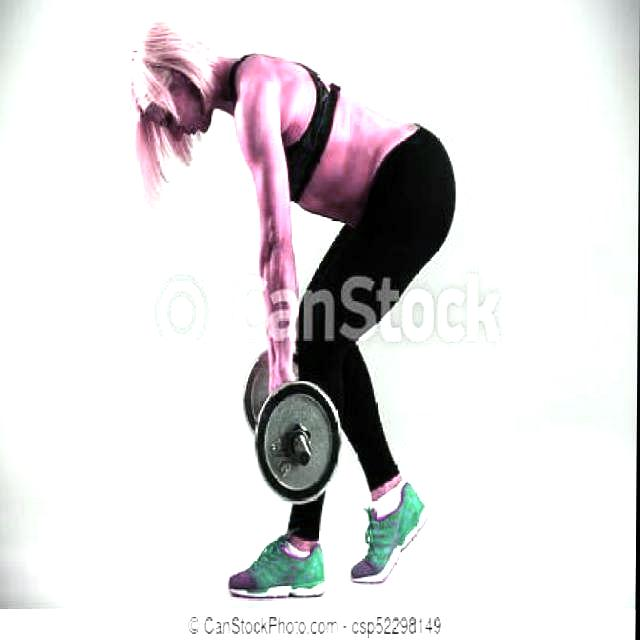barbell: (255, 379, 347, 507)
